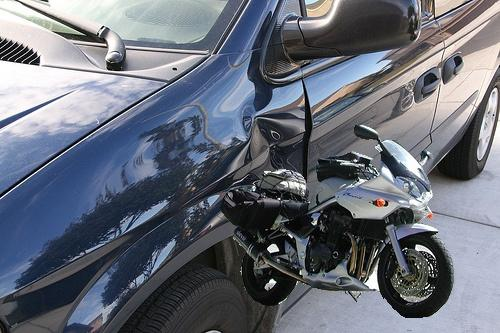tampered: (221, 126, 454, 318)
